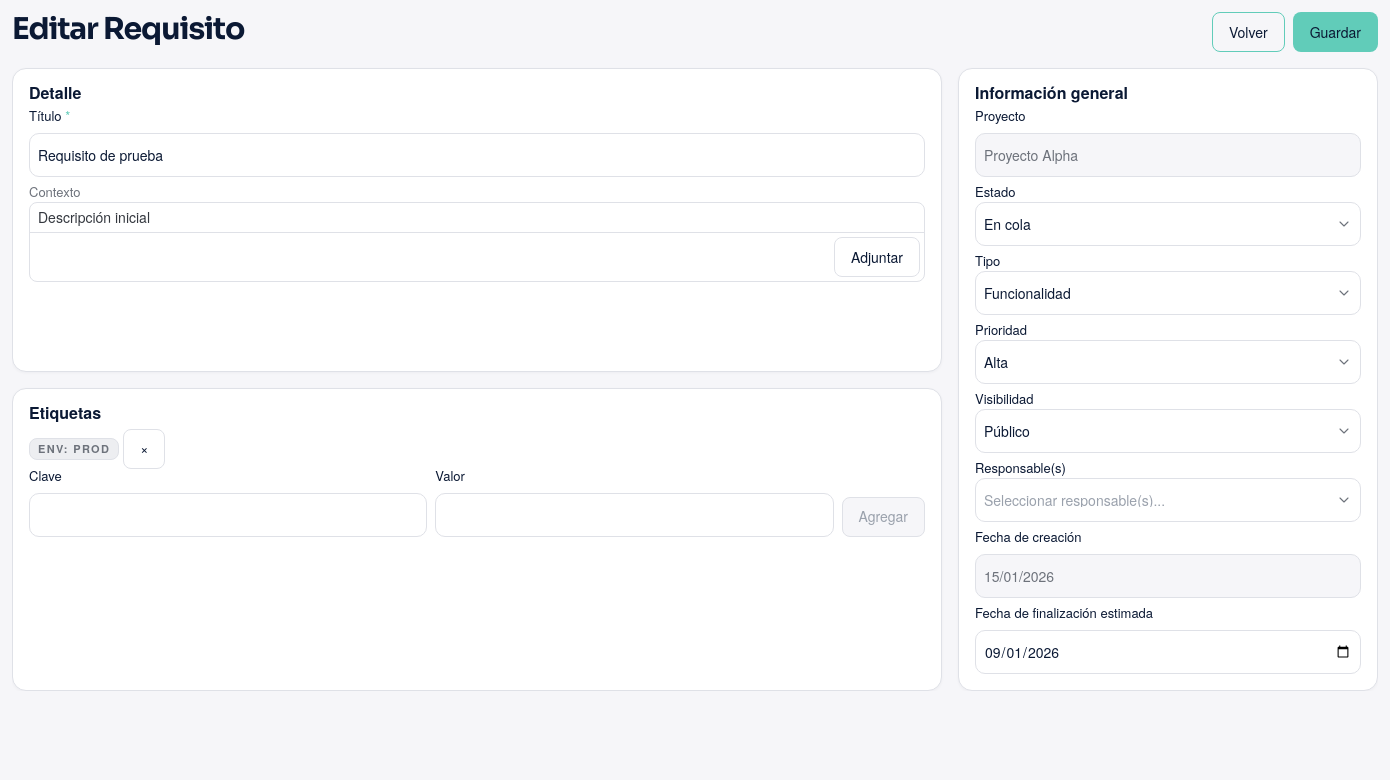
Test case: EditRequirementForm › REQ-012: cambiar Tipo a incidencia con state=en_cola ya cargado no lo limpia, y sigue ofreciéndolo
expect the text "En cola" is shown: met, box [984,214,1031,234]
Step 1. Click the dropdown named "tipo" → (1027, 293), box [975,271,1361,315]
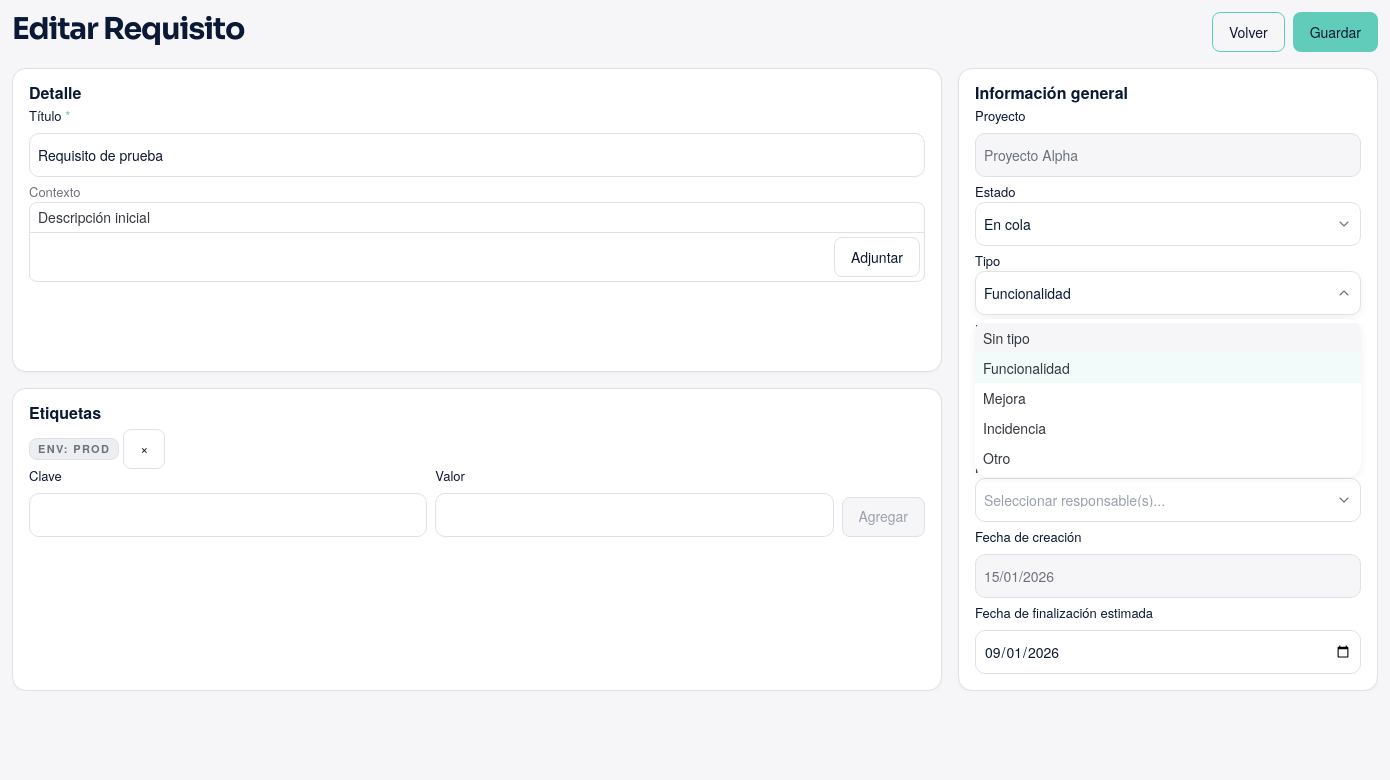
Step 2. Click the option "Incidencia" → (1014, 428), box [983,418,1046,438]
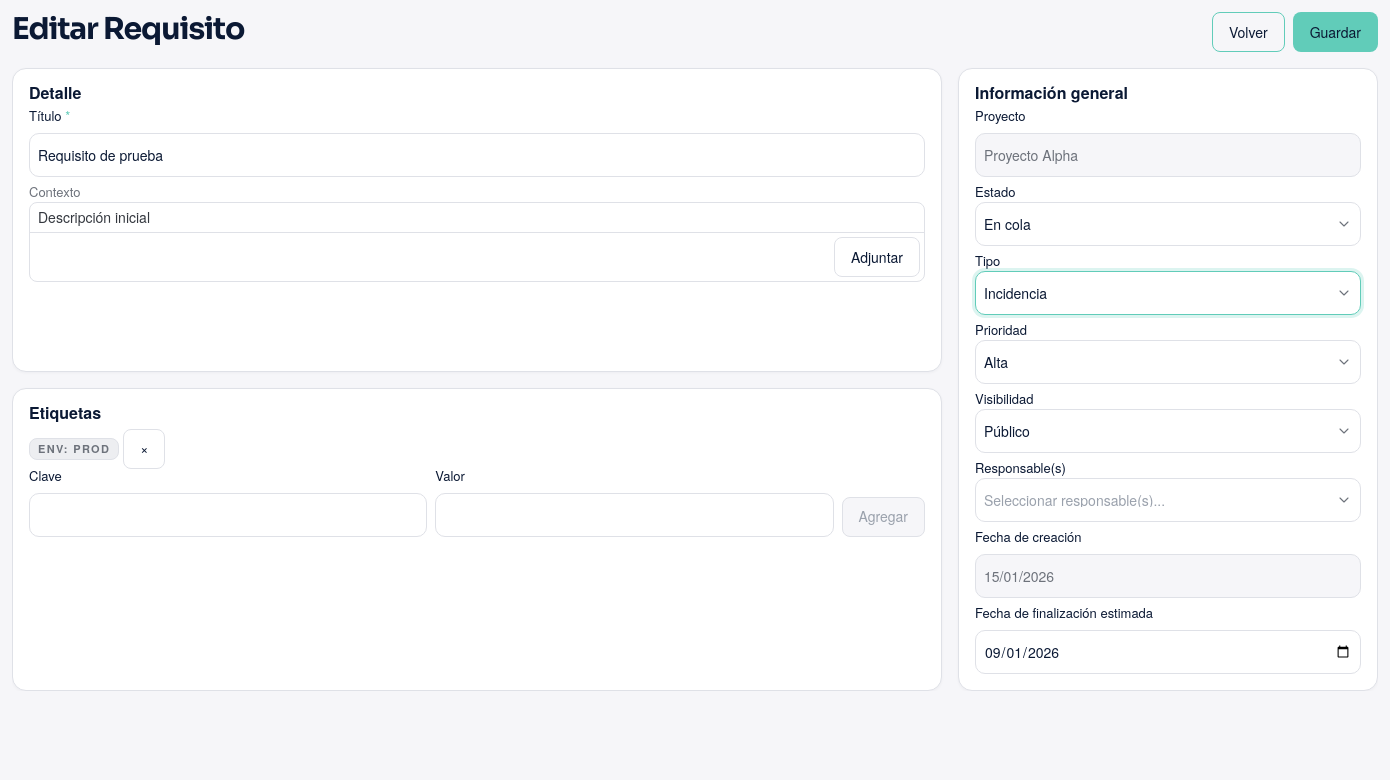
expect the text "En cola" is shown: met, box [984,214,1031,234]
Step 3. Click the dropdown named "estado" → (1007, 224), box [975,202,1361,246]
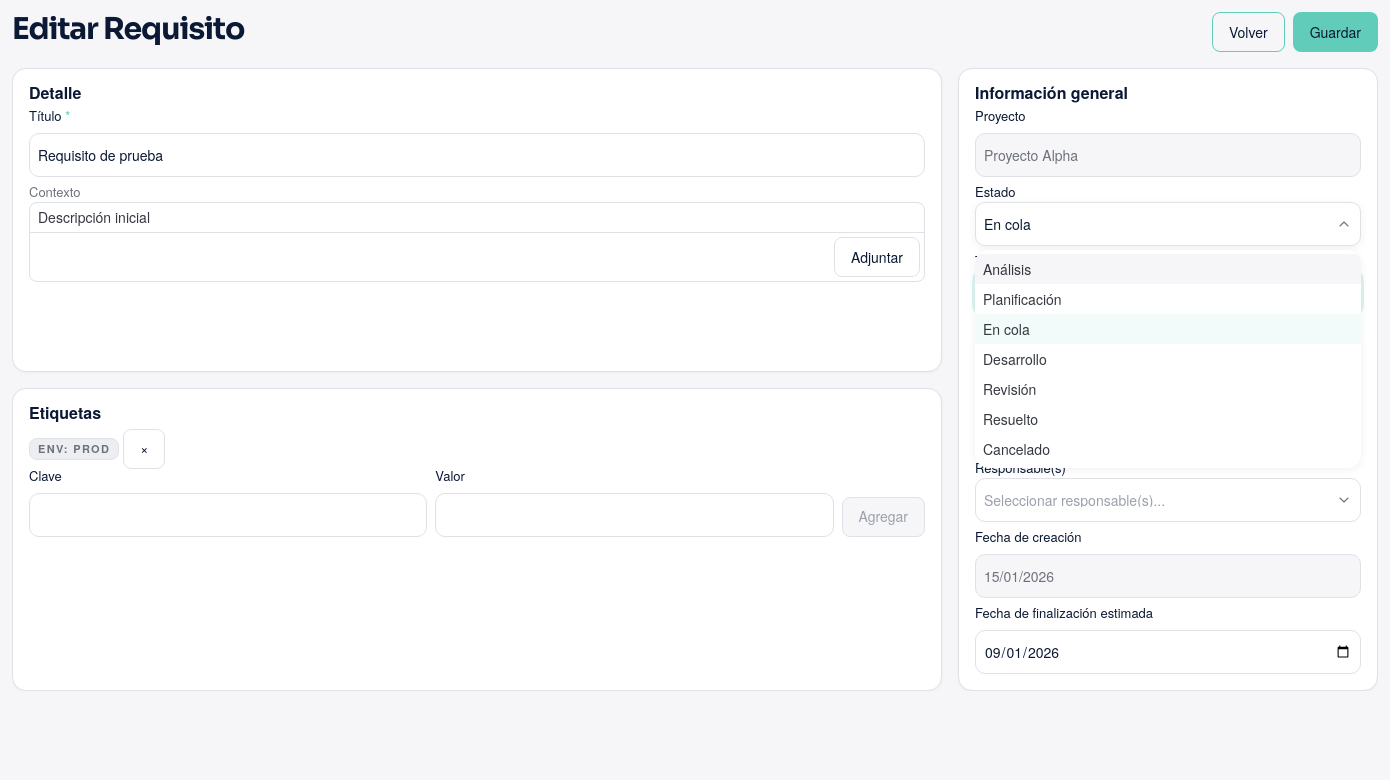
expect the option "En cola" is shown: met, box [975,314,1361,344]
